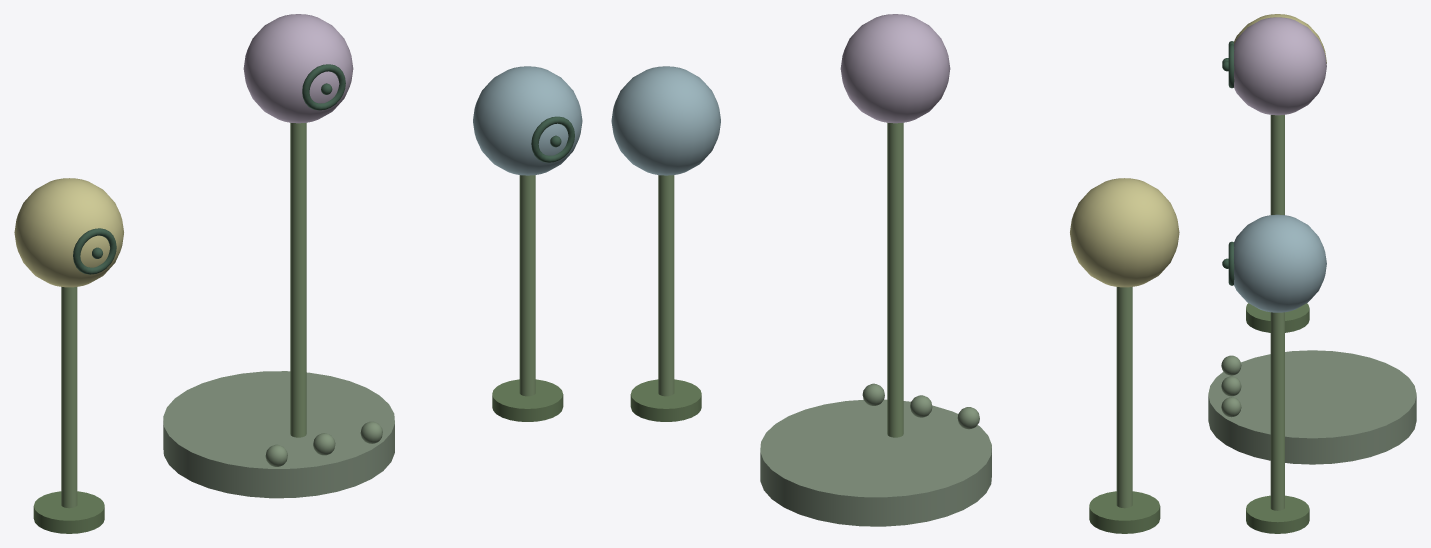
File: echo-station.glb
The picture shows the model from 3 angles, left to right: view 1: azimuth 30°, elevation 25°; view 2: azimuth 150°, elevation 25°; view 3: azimuth 270°, elevation 25°; orthographic projection. The views are drawn at different scales.
Parts seen in each view (by area): view 1: base-echo, speaker-0, speaker-1, speaker-2, note-post-1, note-post-2, note-post-0, note-foot-0, note-foot-2, speaker-face-1, speaker-face-0, speaker-face-2; view 2: base-echo, speaker-2, speaker-1, speaker-0, note-post-1, note-post-2, note-post-0, note-foot-0, note-foot-2; view 3: base-echo, speaker-1, speaker-2, note-post-2, note-foot-2, note-post-1, note-foot-0, speaker-0, pip-echo-0, pip-echo-1, pip-echo-2, speaker-face-2 (+1 smaller).
Part boxes in pixels (<box>): base-echo: <box>163,371,394,498</box>; speaker-0: <box>14,178,123,287</box>; speaker-1: <box>243,14,353,123</box>; speaker-2: <box>473,66,582,175</box>; note-post-1: <box>290,122,306,437</box>; note-post-2: <box>519,175,535,396</box>; note-post-0: <box>61,287,77,508</box>; note-foot-0: <box>33,491,104,533</box>; note-foot-2: <box>492,379,563,421</box>; speaker-face-1: <box>302,64,345,110</box>; speaker-face-0: <box>73,228,116,274</box>; speaker-face-2: <box>531,116,574,162</box>; base-echo: <box>760,399,991,526</box>; speaker-2: <box>611,66,720,175</box>; speaker-1: <box>840,14,950,123</box>; speaker-0: <box>1070,178,1179,287</box>; note-post-1: <box>887,122,903,437</box>; note-post-2: <box>658,175,674,396</box>; note-post-0: <box>1116,287,1132,508</box>; note-foot-0: <box>1089,491,1160,533</box>; note-foot-2: <box>630,379,701,421</box>; base-echo: <box>1208,350,1416,464</box>; speaker-1: <box>1234,17,1326,115</box>; speaker-2: <box>1234,214,1326,312</box>; note-post-2: <box>1270,312,1284,510</box>; note-foot-2: <box>1246,495,1309,533</box>; note-post-1: <box>1270,115,1284,214</box>; note-foot-0: <box>1246,303,1309,332</box>; speaker-0: <box>1234,14,1326,63</box>; pip-echo-0: <box>1221,355,1241,375</box>; pip-echo-1: <box>1221,376,1241,396</box>; pip-echo-2: <box>1221,397,1241,417</box>; speaker-face-2: <box>1228,241,1234,285</box>.
Size of the model in its own units: 1.98 by 1.52 by 0.72.
